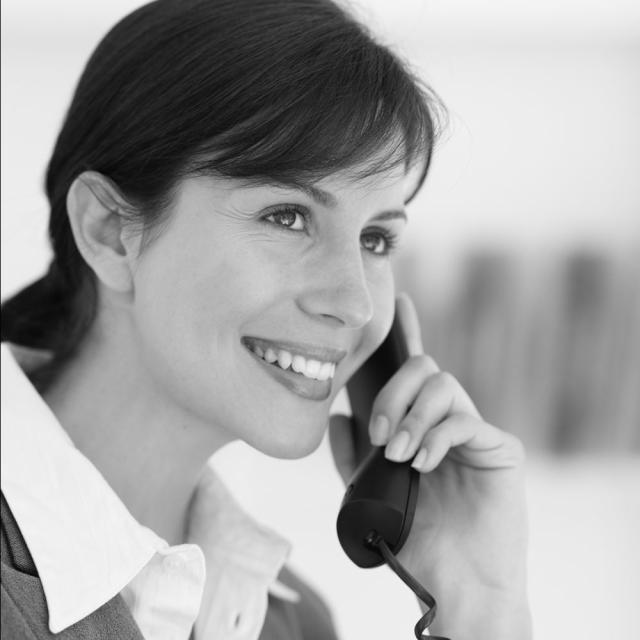phone: (290, 204, 489, 565)
